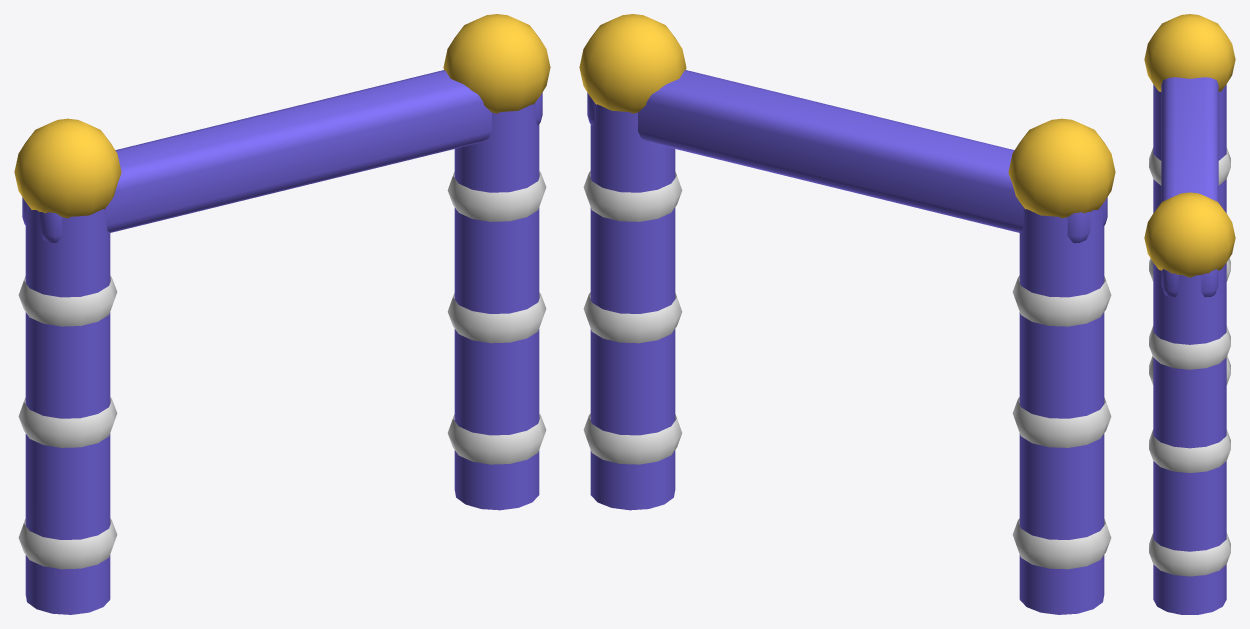
The model's file is door_frame.glb.
3 renders of one model, left to right at view 1: azimuth 30°, elevation 25°; view 2: azimuth 150°, elevation 25°; view 3: azimuth 270°, elevation 25°, orthographic. The views are drawn at different scales.
Visible parts, largest first — view 1: door_frame; view 2: door_frame; view 3: door_frame.
Boxes of the visible parts, left/top/right/bottom form: door_frame: left=14, top=14, right=550, bottom=614; door_frame: left=579, top=14, right=1115, bottom=614; door_frame: left=1144, top=14, right=1235, bottom=614.
Bounding box in the file's own units: 4.5 × 3.9 × 0.8.
